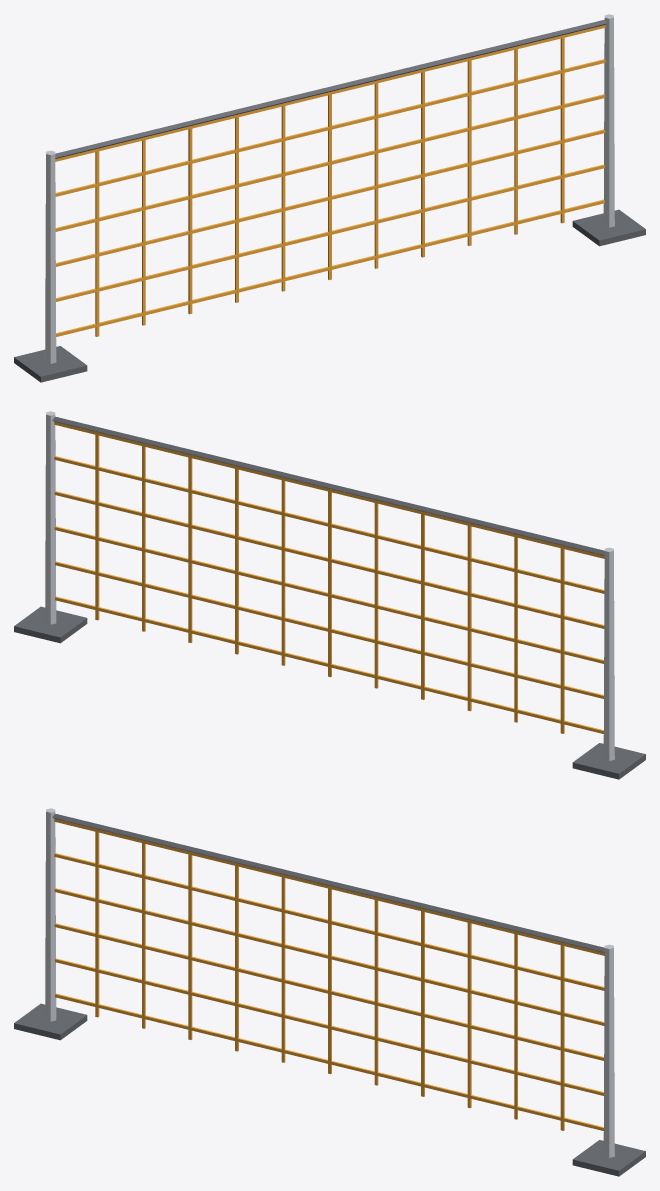
The model's file is ski-resort-and-snow-park-safety-net-94b2f46e__25965.glb.
3 renders of one model, top to bottom at view 1: azimuth 30°, elevation 25°; view 2: azimuth 150°, elevation 25°; view 3: azimuth 330°, elevation 25°, orthographic.
Parts seen in each view (by area): view 1: safety-net; view 2: safety-net; view 3: safety-net.
Part boxes in pixels (x1,y1,x2,y2): safety-net: [14, 14, 645, 382]; safety-net: [14, 411, 645, 779]; safety-net: [14, 808, 645, 1176].
Size of the model in its own units: 6.5 by 2.2 by 0.4999.
